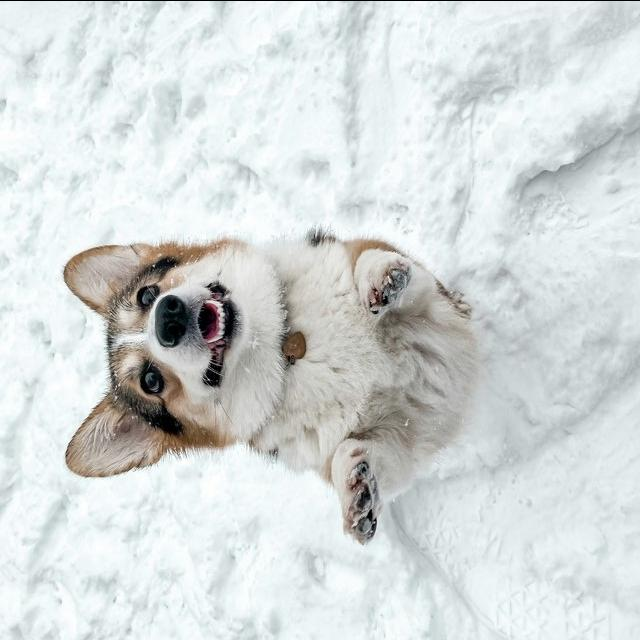corgi: (60, 226, 479, 544)
